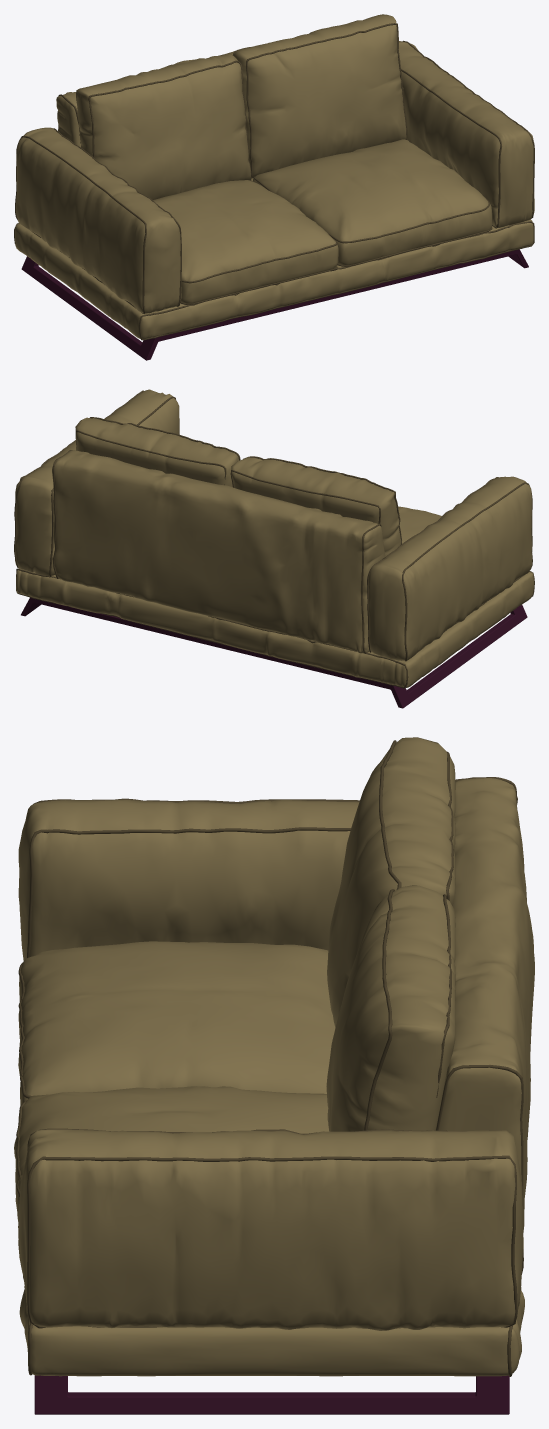
Rendered from Couch.fbx.
3 renders of one model, top to bottom at view 1: azimuth 30°, elevation 25°; view 2: azimuth 150°, elevation 25°; view 3: azimuth 270°, elevation 25°, orthographic. The views are drawn at different scales.
Parts seen in each view (by area): view 1: pillow-back_001, pillow-back#2_001, side#2_001, pillow-1_001, pillow-1#2_001, box-1#2_001, side#1_001, box-1#3_001, Group_030, back#1_001, Group_003, Group_005 (+6 smaller); view 2: back#1_001, side#2_001, box-1#2_001, pillow-back#2_001, side#1_001, pillow-back_001, box-1#3_001, Group_019, pillow-1#2_001, Group_017, Group_027, Group_005 (+3 smaller); view 3: side#1_001, side#2_001, pillow-1#2_001, back#1_001, pillow-back_001, box-1#2_001, pillow-back#2_001, pillow-1_001, box-1#3_001, Group_029, Group_027, Group_003 (+1 smaller).
Boxes of the visible parts, bbox=[...] form: pillow-back_001: bbox=[233, 14, 406, 178]; pillow-back#2_001: bbox=[76, 53, 250, 199]; side#2_001: bbox=[16, 127, 181, 313]; pillow-1_001: bbox=[253, 139, 492, 265]; pillow-1#2_001: bbox=[153, 180, 338, 303]; box-1#2_001: bbox=[15, 219, 533, 339]; side#1_001: bbox=[398, 41, 534, 227]; box-1#3_001: bbox=[21, 249, 528, 360]; Group_030: bbox=[139, 221, 534, 340]; back#1_001: bbox=[56, 47, 252, 180]; Group_003: bbox=[246, 23, 407, 178]; Group_005: bbox=[88, 60, 251, 180]; back#1_001: bbox=[52, 450, 385, 653]; side#2_001: bbox=[368, 476, 532, 660]; box-1#2_001: bbox=[16, 568, 533, 687]; pillow-back#2_001: bbox=[231, 457, 401, 556]; side#1_001: bbox=[15, 389, 179, 575]; pillow-back_001: bbox=[75, 417, 239, 486]; box-1#3_001: bbox=[21, 597, 527, 708]; Group_019: bbox=[16, 568, 408, 688]; pillow-1#2_001: bbox=[398, 506, 441, 543]; Group_017: bbox=[402, 482, 532, 661]; Group_027: bbox=[367, 477, 498, 652]; Group_005: bbox=[243, 456, 401, 544]; side#1_001: bbox=[19, 1129, 522, 1330]; side#2_001: bbox=[18, 800, 359, 960]; pillow-1#2_001: bbox=[18, 941, 335, 1105]; back#1_001: bbox=[435, 778, 534, 1252]; pillow-back_001: bbox=[326, 885, 455, 1131]; box-1#2_001: bbox=[19, 1286, 524, 1376]; pillow-back#2_001: bbox=[327, 737, 455, 1027]; pillow-1_001: bbox=[14, 1086, 329, 1275]; box-1#3_001: bbox=[34, 1375, 509, 1414]; Group_029: bbox=[27, 1155, 517, 1328]; Group_027: bbox=[27, 827, 351, 957]; Group_003: bbox=[364, 889, 394, 1130].
Size of the model in its own units: 198 by 89.57 by 117.
